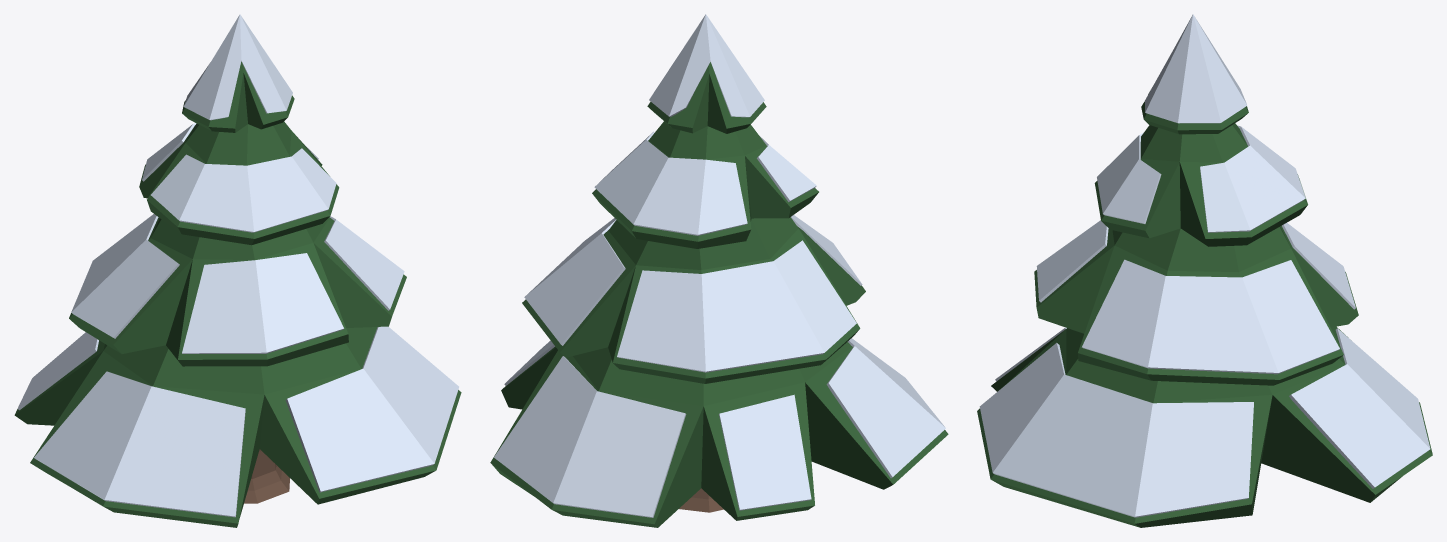
Rendered from Tree2.fbx.
3 renders of one model, left to right at view 1: azimuth 30°, elevation 25°; view 2: azimuth 150°, elevation 25°; view 3: azimuth 270°, elevation 25°, orthographic. The views are drawn at different scales.
Visible parts, largest first — view 1: Cylinder.001; view 2: Cylinder.001; view 3: Cylinder.001.
Part boxes in pixels (x1,y1,x2,y2): Cylinder.001: (14, 14, 461, 527); Cylinder.001: (490, 14, 948, 527); Cylinder.001: (977, 14, 1432, 527).
Bounding box in the file's own units: 410 × 470 × 405.
